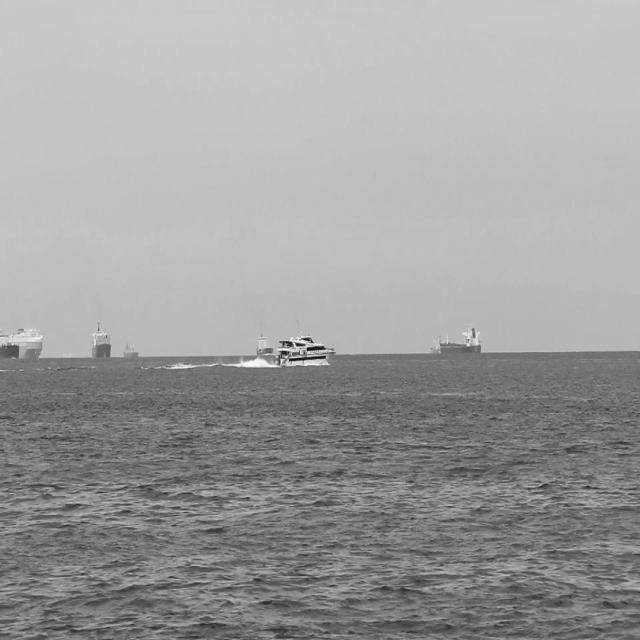ship: (273, 336, 336, 368), (426, 325, 483, 355), (89, 317, 111, 365), (5, 329, 44, 356), (116, 338, 140, 363), (252, 329, 272, 357), (1, 336, 20, 364)
